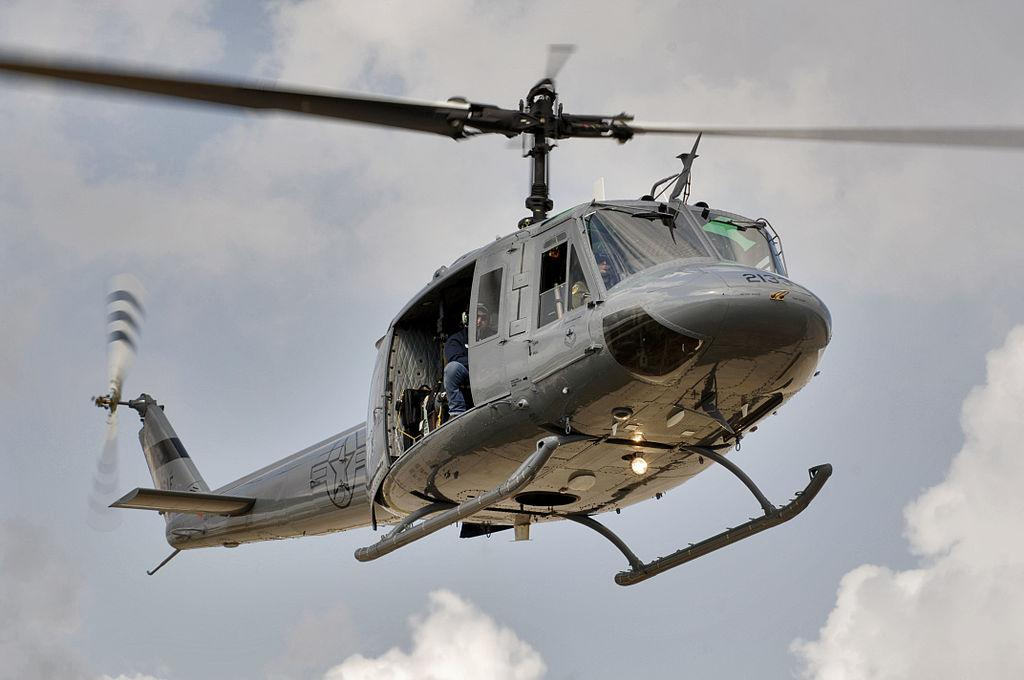MilitaryHelicopter: (83, 96, 863, 567)
